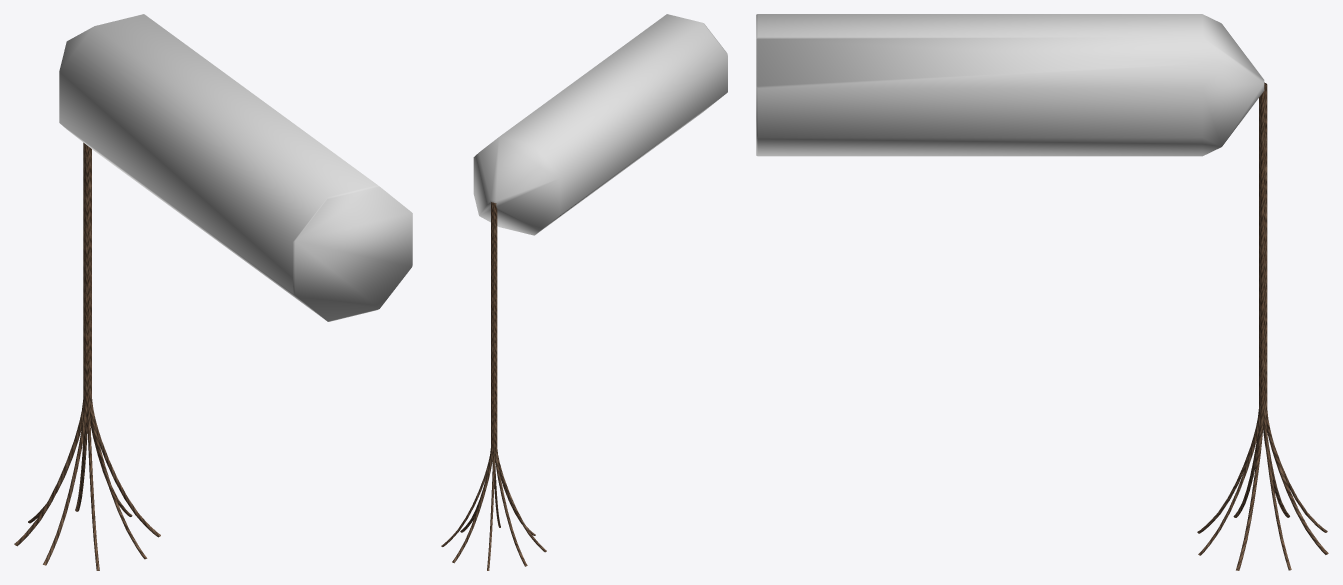
The model's file is SM_Chandelier_Ropes.fbx.
3 renders of one model, left to right at view 1: azimuth 30°, elevation 25°; view 2: azimuth 150°, elevation 25°; view 3: azimuth 270°, elevation 25°, orthographic. The views are drawn at different scales.
Visible parts, largest first — view 1: SM_Chandelier_Ropes_ConvexHulls, SM_Chandelier_Ropes; view 2: SM_Chandelier_Ropes_ConvexHulls, SM_Chandelier_Ropes; view 3: SM_Chandelier_Ropes_ConvexHulls, SM_Chandelier_Ropes.
Part boxes in pixels (box(x1,y1,x2,y2)): SM_Chandelier_Ropes_ConvexHulls: box(59, 14, 412, 321); SM_Chandelier_Ropes: box(14, 142, 160, 570); SM_Chandelier_Ropes_ConvexHulls: box(473, 14, 727, 235); SM_Chandelier_Ropes: box(441, 202, 546, 570); SM_Chandelier_Ropes_ConvexHulls: box(756, 14, 1264, 156); SM_Chandelier_Ropes: box(1197, 82, 1328, 570).
Bounding box in the file's own units: 1.58 × 6.87 × 6.87.
